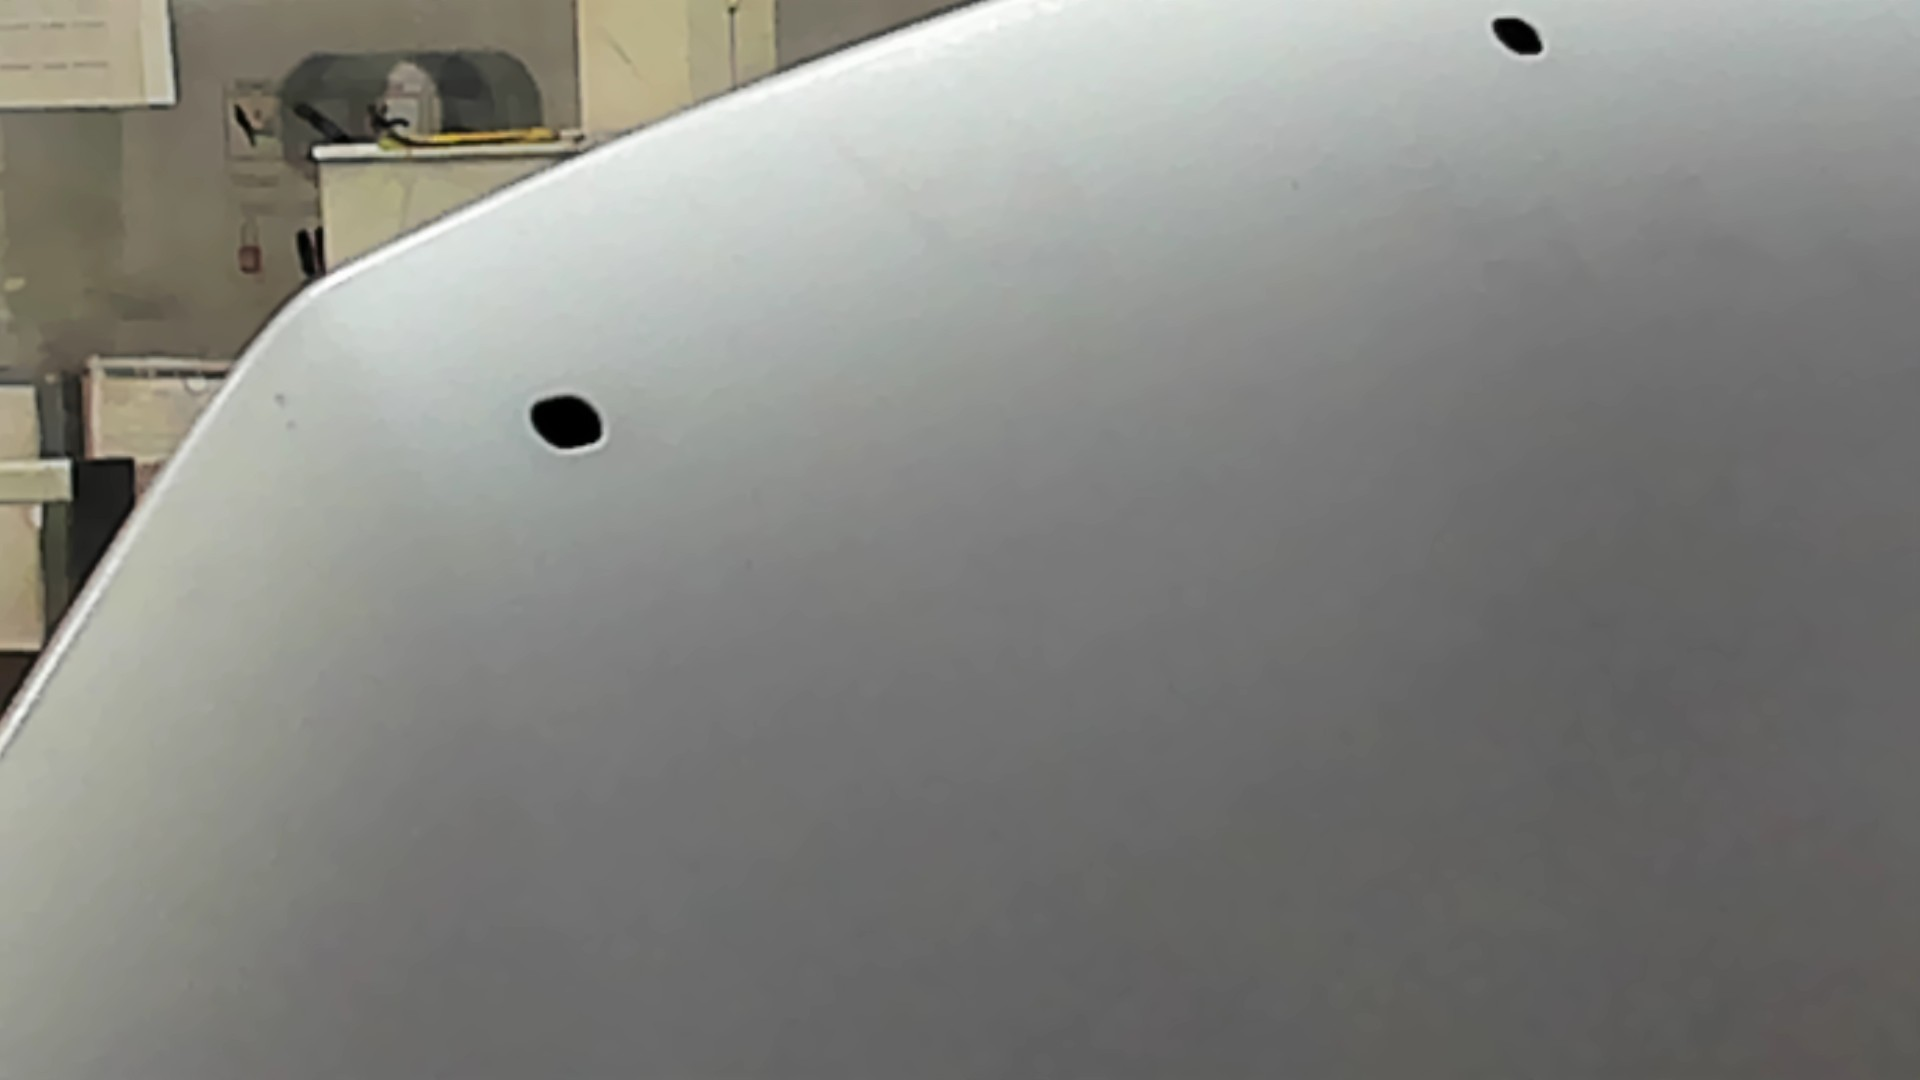Agujero: (526, 386, 607, 458), (1489, 12, 1547, 62)
